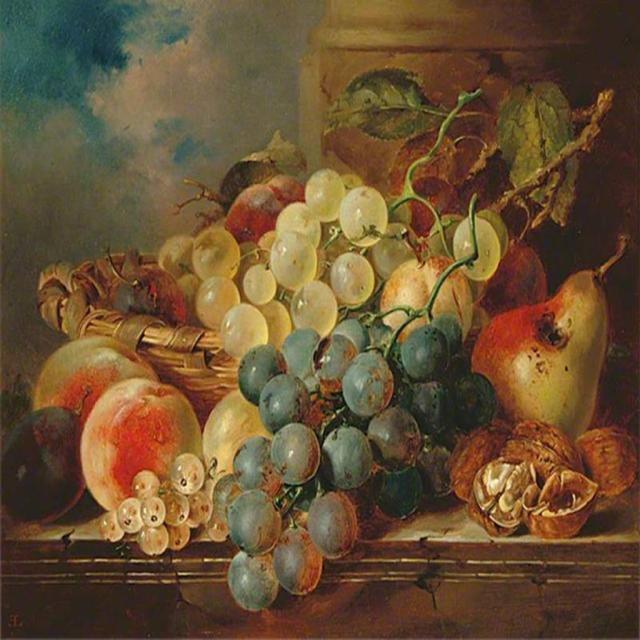pear: (473, 262, 613, 433)
